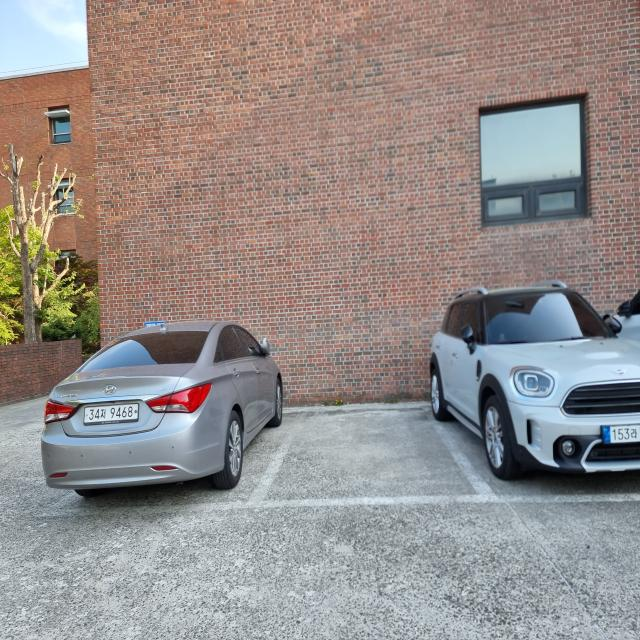empty: (240, 403, 496, 510)
occupied: (42, 322, 288, 495), (432, 296, 640, 478)
